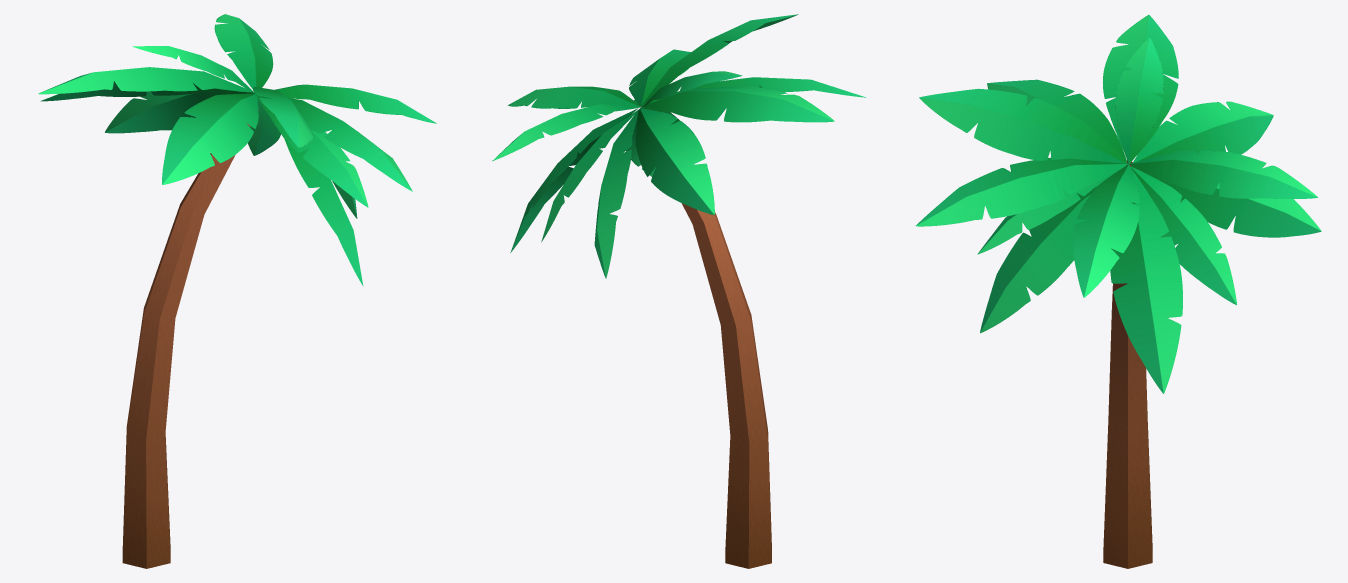
The model's file is Tree.fbx.
The picture shows the model from 3 angles, left to right: view 1: azimuth 30°, elevation 25°; view 2: azimuth 150°, elevation 25°; view 3: azimuth 270°, elevation 25°; orthographic projection. The views are drawn at different scales.
Parts seen in each view (by area): view 1: Tree; view 2: Tree; view 3: Tree.
Part boxes in pixels (x1,y1,x2,y2): Tree: [38, 14, 436, 568]; Tree: [492, 14, 866, 568]; Tree: [916, 15, 1321, 568].
Bounding box in the file's own units: 91.27 × 116 × 87.7.
